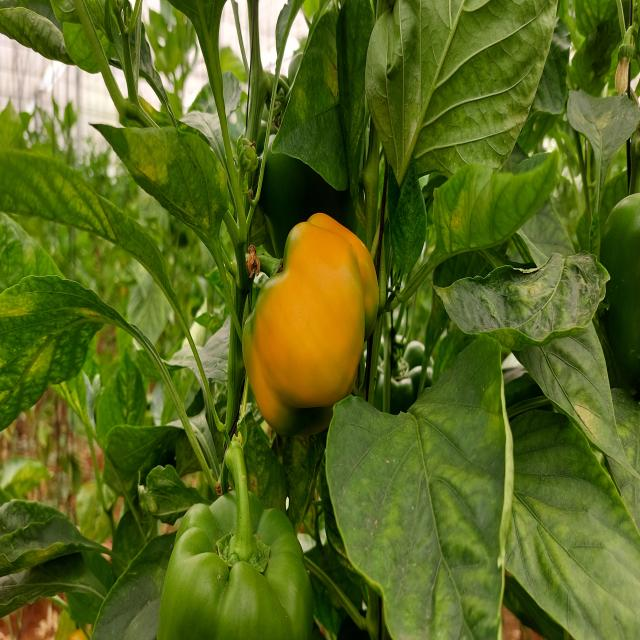GreenishYellow--Can-be-Harvested: (241, 216, 385, 450)
